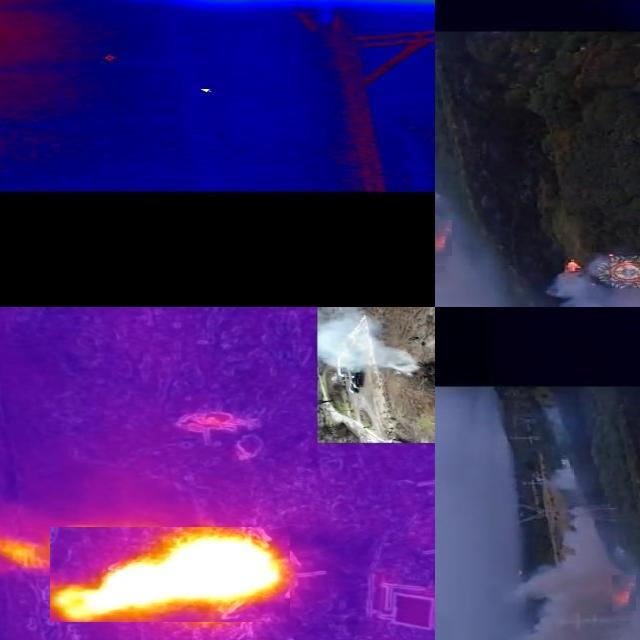fire: (51, 528, 291, 623)
